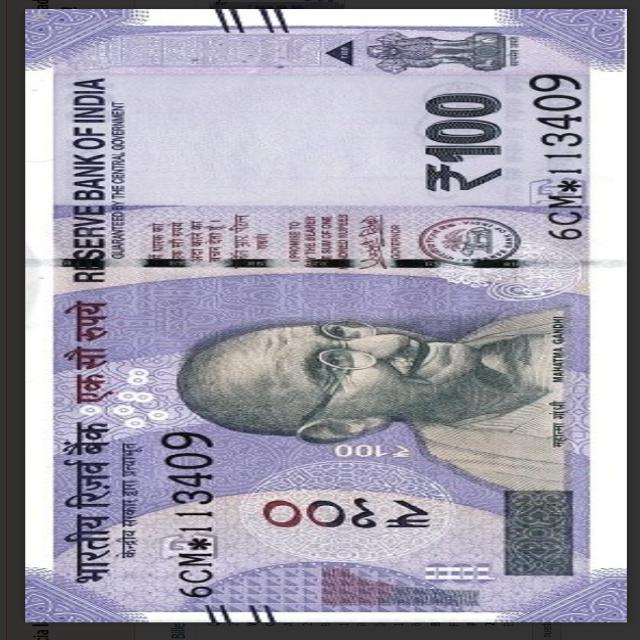100IndianRupees: (24, 8, 617, 622), (28, 280, 629, 620), (23, 11, 614, 285)
